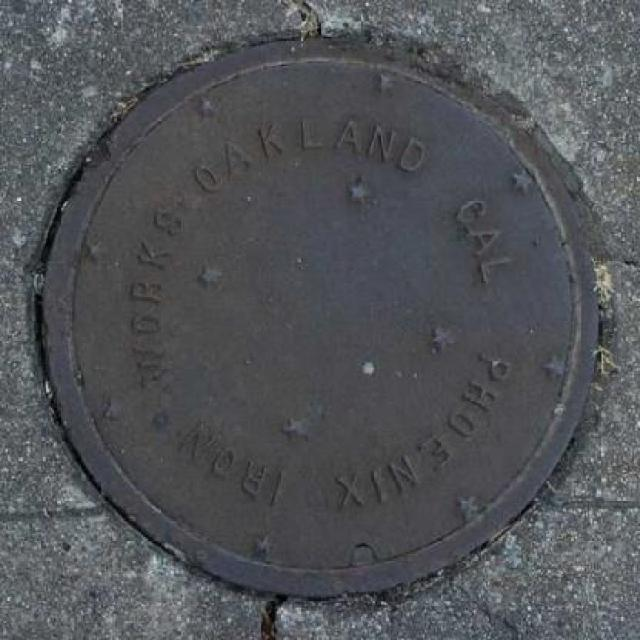Manhole: (43, 35, 622, 614)
